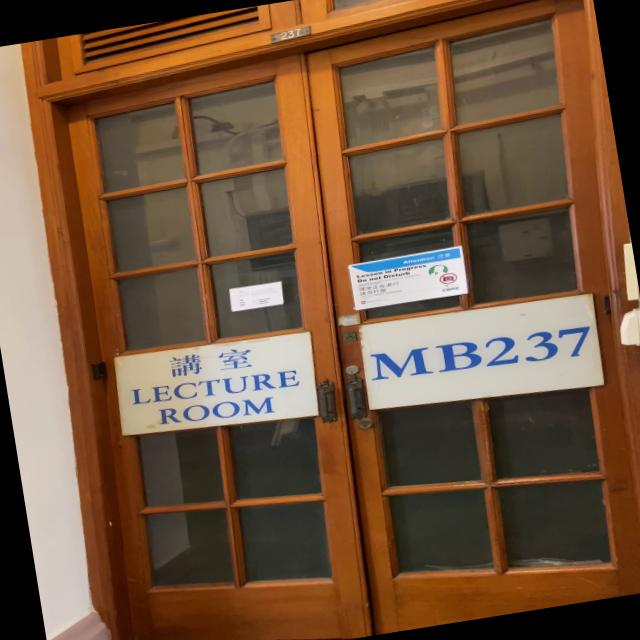room237: (264, 23, 316, 47)
room237Window: (369, 314, 599, 390)
